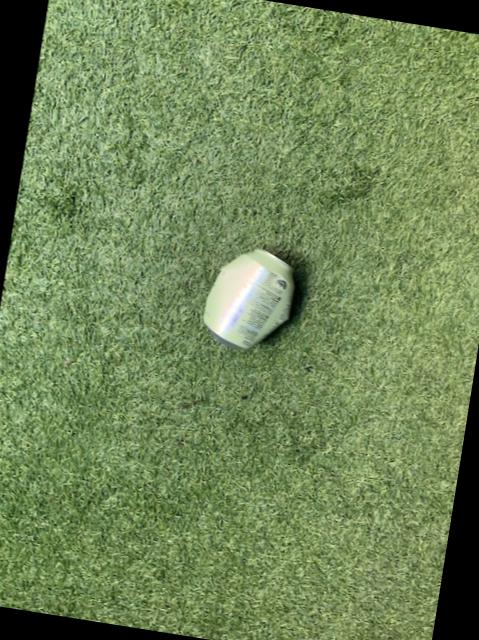metal: (201, 250, 291, 350)
